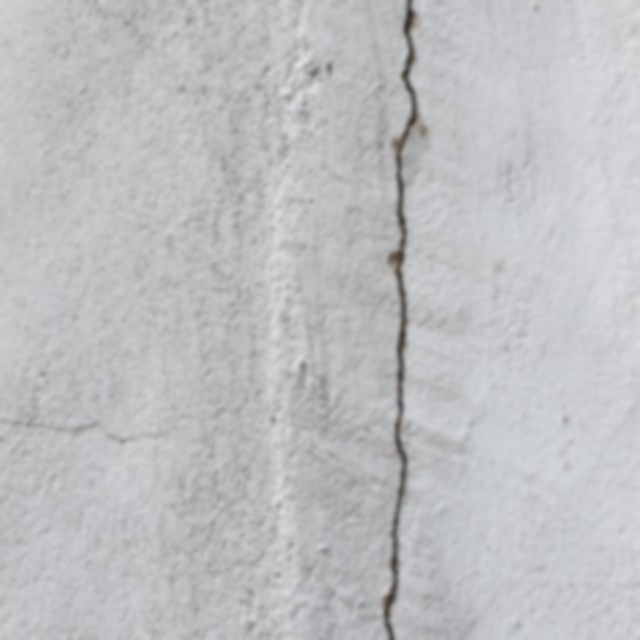SurfaceCrack: (338, 1, 471, 640)
